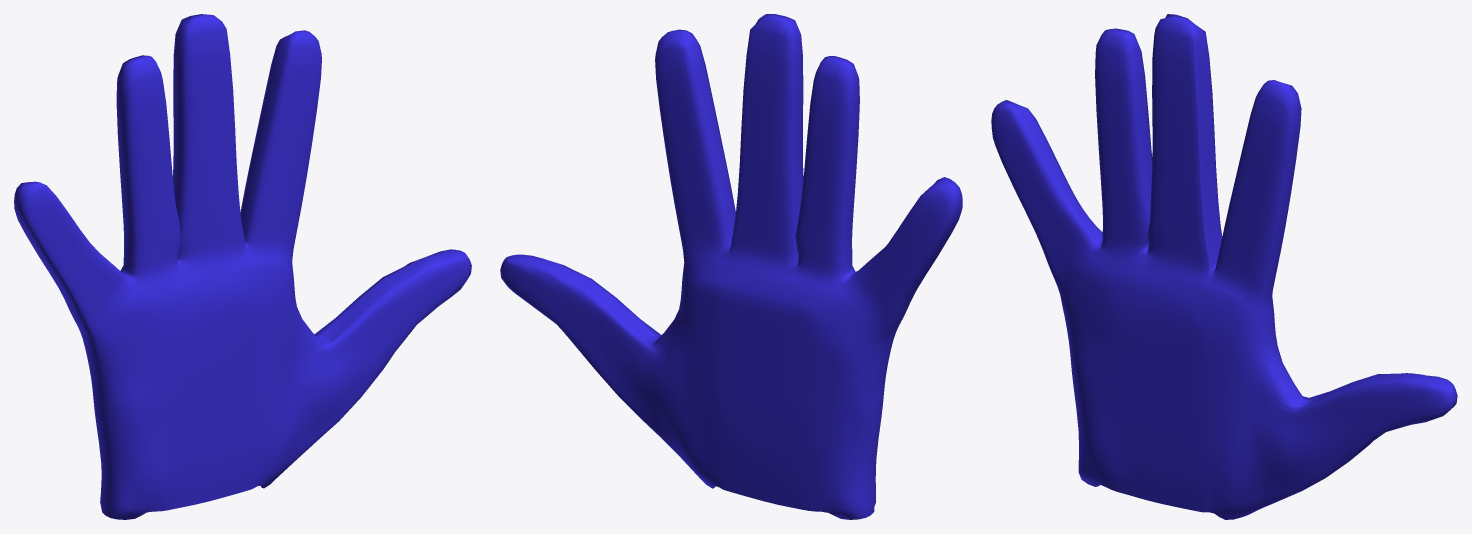
Rendered from hand2blue.glb.
3 renders of one model, left to right at view 1: azimuth 30°, elevation 25°; view 2: azimuth 150°, elevation 25°; view 3: azimuth 330°, elevation 25°, orthographic.
Visible parts, largest first — view 1: Cube; view 2: Cube; view 3: Cube.
Part boxes in pixels (x1=…): Cube: x1=14, y1=14, x2=471, y2=519; Cube: x1=500, y1=14, x2=962, y2=519; Cube: x1=991, y1=14, x2=1457, y2=519.
Size of the model in its own units: 6.77 by 6.82 by 0.9034.
